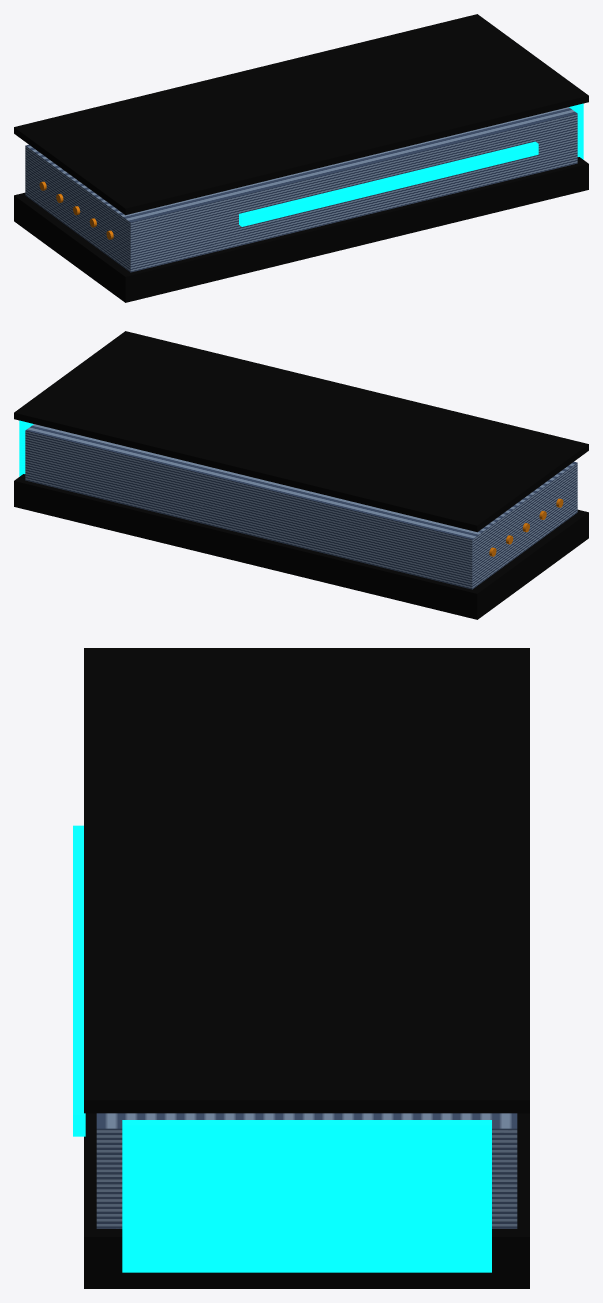
File: rtx-4070.glb
The picture shows the model from 3 angles, top to bottom: view 1: azimuth 30°, elevation 25°; view 2: azimuth 150°, elevation 25°; view 3: azimuth 270°, elevation 25°; orthographic projection. The views are drawn at different scales.
Visible parts, largest first — view 1: GpuBackplate, GpuHeatsinkCore, GpuMainShroud, RGB_GpuSideLightBar, RGB_GpuEndCapAccent; view 2: GpuBackplate, GpuHeatsinkCore, GpuMainShroud, RGB_GpuEndCapAccent; view 3: GpuBackplate, RGB_GpuEndCapAccent, GpuMainShroud, GpuHeatsinkCore, RGB_GpuSideLightBar.
Boxes of the visible parts, box(x1,y1,x2,y2) form: GpuBackplate: box(14, 14, 588, 215); GpuHeatsinkCore: box(25, 107, 577, 272); GpuMainShroud: box(14, 157, 588, 302); RGB_GpuSideLightBar: box(239, 141, 538, 226); RGB_GpuEndCapAccent: box(569, 103, 583, 159); GpuBackplate: box(14, 331, 588, 532); GpuHeatsinkCore: box(25, 424, 577, 589); GpuMainShroud: box(14, 474, 588, 619); RGB_GpuEndCapAccent: box(19, 420, 33, 476); GpuBackplate: box(84, 648, 529, 1113); RGB_GpuEndCapAccent: box(122, 1120, 491, 1272); GpuMainShroud: box(84, 1113, 529, 1288); GpuHeatsinkCore: box(96, 1113, 517, 1228); RGB_GpuSideLightBar: box(73, 825, 85, 1136).
Bounding box in the file's own units: 3.39 × 0.6754 × 1.43.
5 materials, 3 textured.
